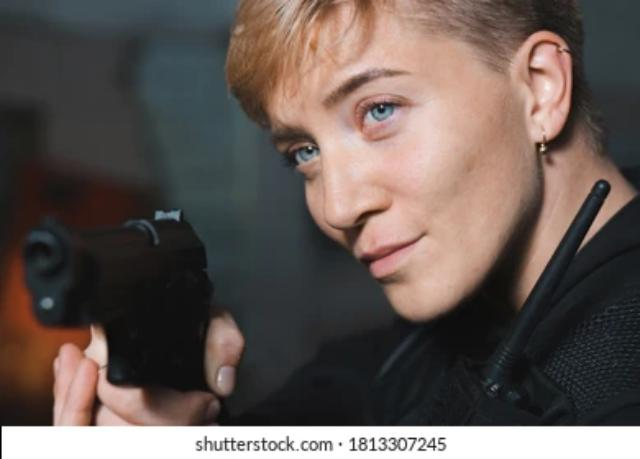other: (218, 0, 640, 401)
